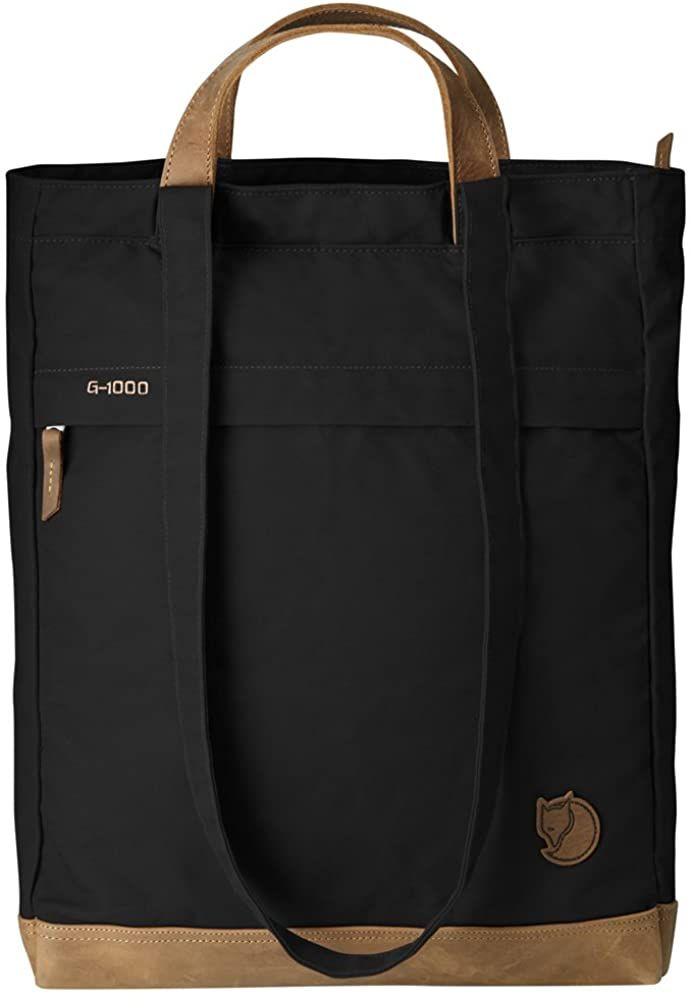nylon: (5, 158, 683, 928)
